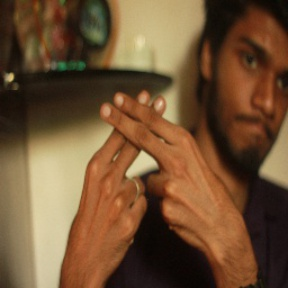F: (79, 75, 197, 206)
